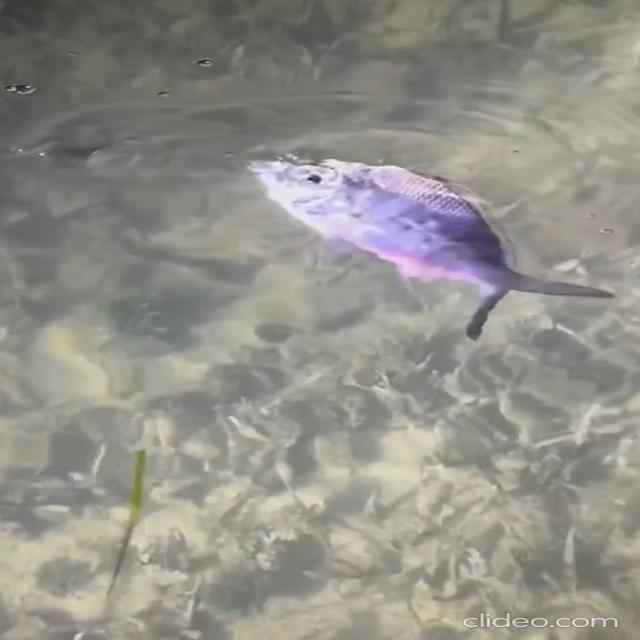fish: (251, 151, 640, 346)
